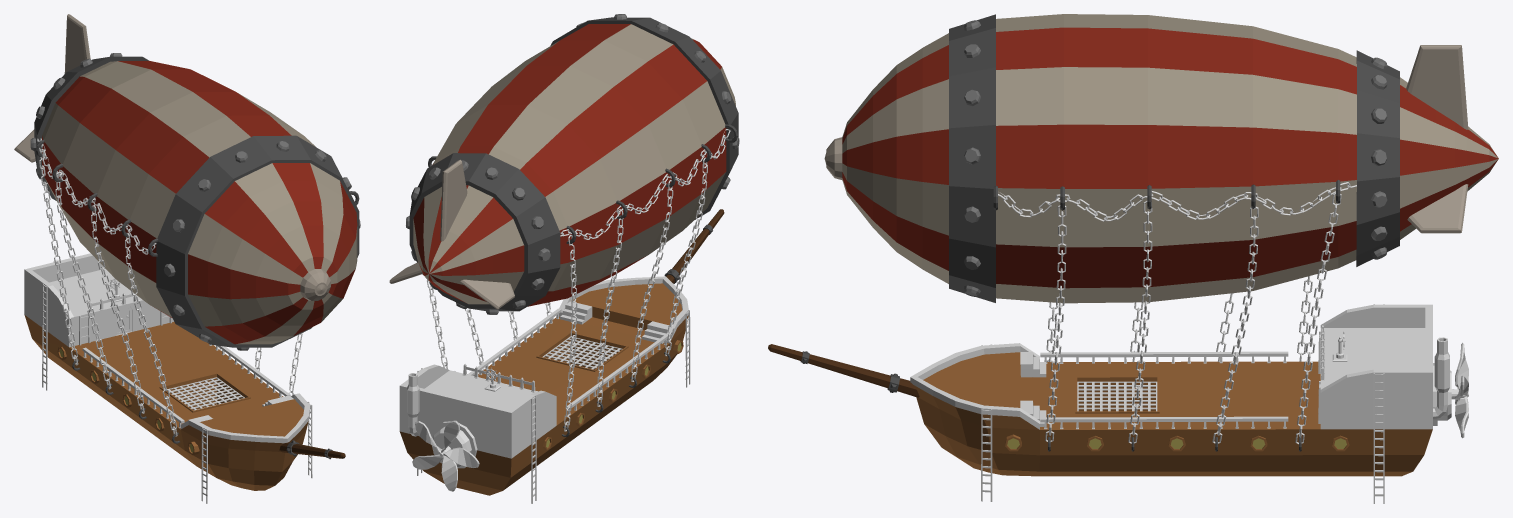
File: Airship 1.fbx
The picture shows the model from 3 angles, left to right: view 1: azimuth 30°, elevation 25°; view 2: azimuth 150°, elevation 25°; view 3: azimuth 270°, elevation 25°; orthographic projection. The views are drawn at different scales.
Parts seen in each view (by area): view 1: Balloon, Schip, Kajuit, SchipFront, Ruimgrid, SchipFrontHekkie, Chain7, Chain6, Chain9, Chain8, Chain10, Hekkieschip2 (+4 smaller); view 2: Balloon, Schip, Kajuit, SchipFront, Propellers, Ruimgrid, SchipFrontHekkie, Chain10, Chain9, Chain8, Chain7, PropellerPart (+10 smaller); view 3: Balloon, Schip, Kajuit, SchipFront, SchipFrontHekkie, Chain1, Ruimgrid, Stonk, Hekkieschip1, Hekkieschip2, Chain2, Chain3 (+5 smaller).
Boxes of the visible parts, bbox=[...] form: Balloon: bbox=[14, 14, 360, 350]; Schip: bbox=[24, 315, 283, 466]; Kajuit: bbox=[24, 253, 173, 347]; SchipFront: bbox=[181, 399, 308, 490]; Ruimgrid: bbox=[168, 377, 244, 410]; SchipFrontHekkie: bbox=[180, 393, 310, 443]; Chain7: bbox=[55, 171, 111, 389]; Chain6: bbox=[39, 148, 78, 365]; Chain9: bbox=[125, 232, 177, 436]; Chain8: bbox=[91, 205, 144, 413]; Chain10: bbox=[37, 138, 156, 254]; Hekkieschip2: bbox=[82, 347, 184, 427]; Balloon: bbox=[389, 14, 739, 314]; Schip: bbox=[399, 316, 670, 495]; Kajuit: bbox=[399, 364, 556, 458]; SchipFront: bbox=[571, 283, 688, 379]; Propellers: bbox=[412, 420, 479, 491]; Ruimgrid: bbox=[542, 336, 622, 369]; SchipFrontHekkie: bbox=[559, 276, 688, 343]; Chain10: bbox=[560, 129, 730, 239]; Chain9: bbox=[665, 157, 707, 356]; Chain8: bbox=[631, 180, 673, 381]; Chain7: bbox=[597, 209, 623, 406]; PropellerPart: bbox=[431, 421, 477, 468]; Balloon: bbox=[824, 14, 1498, 303]; Schip: bbox=[1039, 361, 1432, 476]; Kajuit: bbox=[1320, 304, 1432, 429]; SchipFront: bbox=[913, 352, 1039, 476]; SchipFrontHekkie: bbox=[910, 343, 1039, 429]; Chain1: bbox=[998, 182, 1356, 221]; Ruimgrid: bbox=[1077, 381, 1157, 411]; Stonk: bbox=[768, 344, 919, 397]; Hekkieschip1: bbox=[1040, 416, 1288, 429]; Hekkieschip2: bbox=[1040, 351, 1288, 363]; Chain2: bbox=[1295, 193, 1341, 444]; Chain3: bbox=[1212, 206, 1258, 443].
Size of the model in its own units: 1203 by 1910 by 2867.
